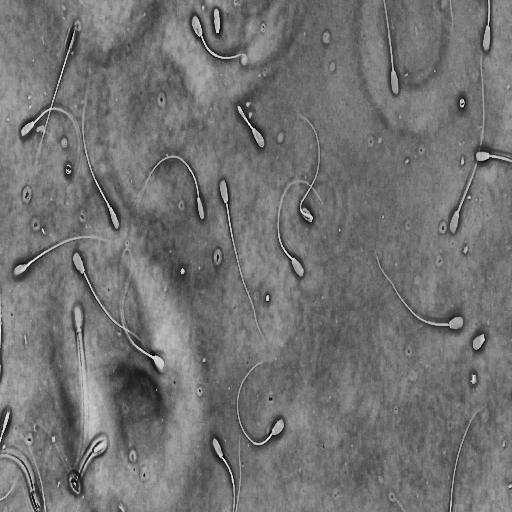coiled-tail: (238, 104, 265, 149), (71, 450, 93, 492)
dirt-particles: (457, 94, 466, 113), (470, 371, 478, 387), (65, 163, 73, 177)
distal-droplet: (231, 477, 234, 484)
folded-tail: (40, 32, 75, 146), (299, 116, 320, 220)
loose-head: (470, 331, 488, 355), (212, 4, 222, 35)
loose-tail: (448, 402, 489, 512), (234, 427, 244, 512)
normal: (218, 176, 267, 347), (72, 249, 149, 352), (373, 250, 466, 332), (447, 53, 486, 239), (118, 236, 167, 374), (81, 62, 121, 231), (275, 175, 327, 280), (19, 104, 82, 188), (38, 23, 79, 151), (137, 152, 206, 223), (11, 232, 113, 279), (235, 356, 286, 449), (188, 12, 249, 62), (296, 111, 322, 224), (69, 438, 106, 493), (210, 435, 236, 511), (382, 0, 401, 98), (236, 101, 266, 150)
